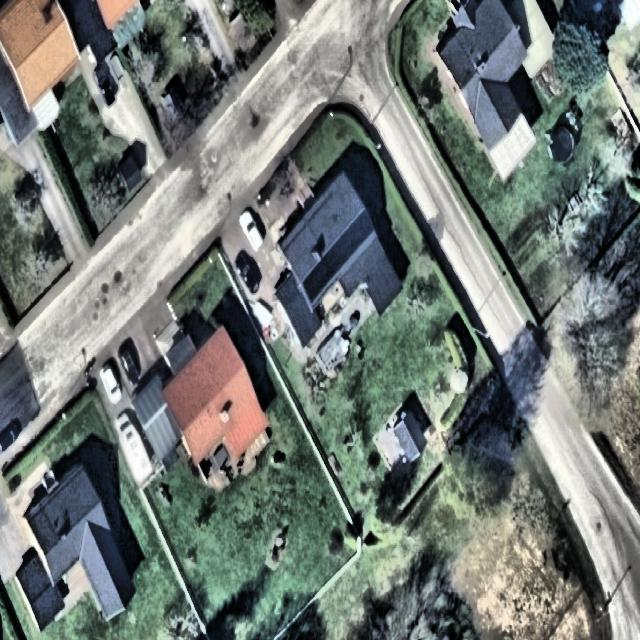roof_pv: (301, 257, 329, 306), (329, 228, 352, 281), (352, 208, 374, 256)
